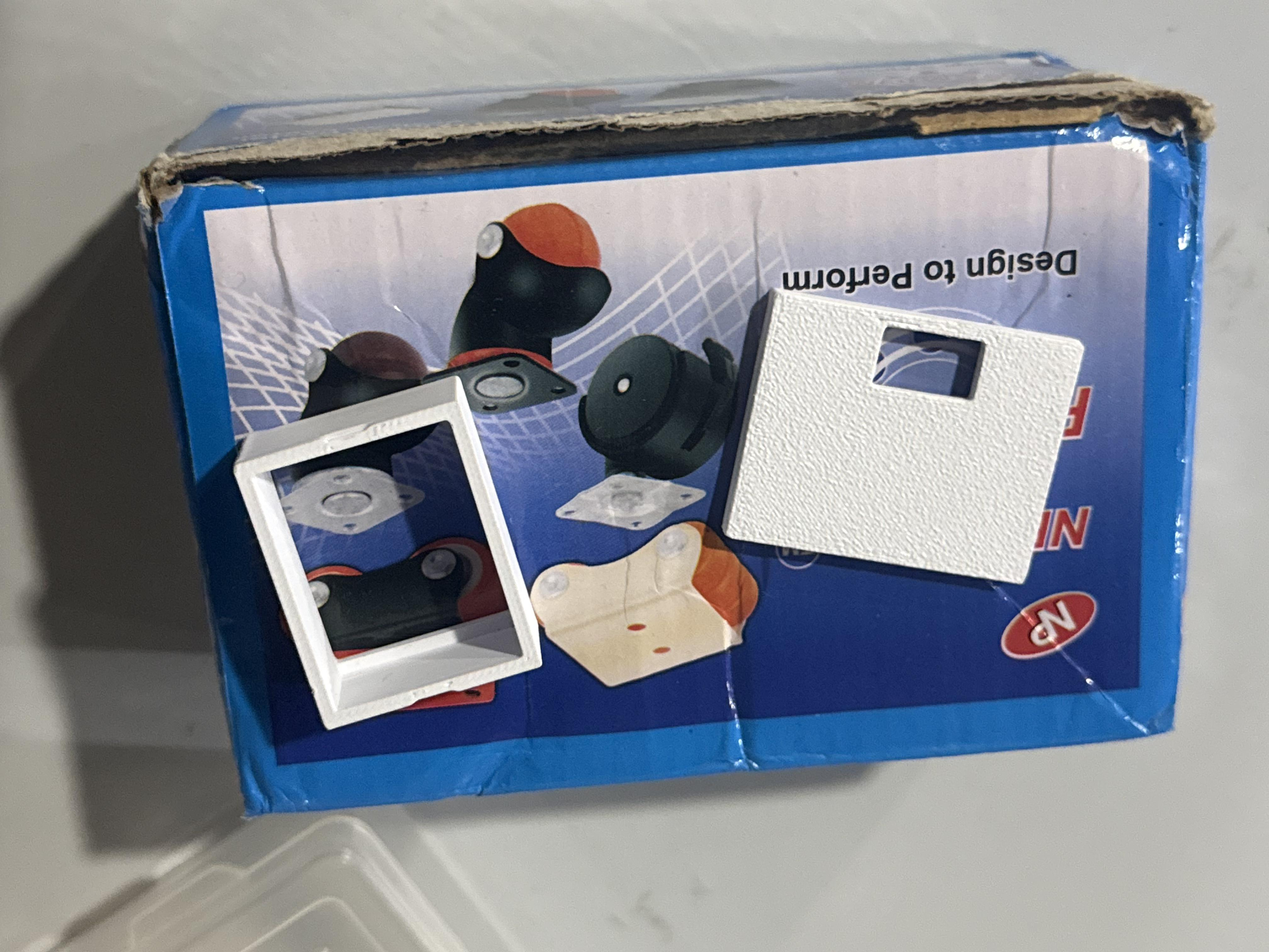enclosure: (234, 374, 544, 731), (719, 286, 1086, 586)
